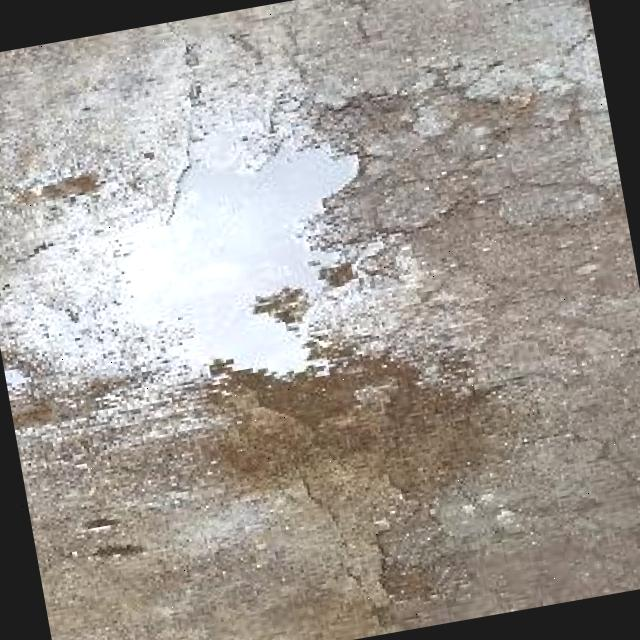stagnation: (40, 89, 406, 422)
